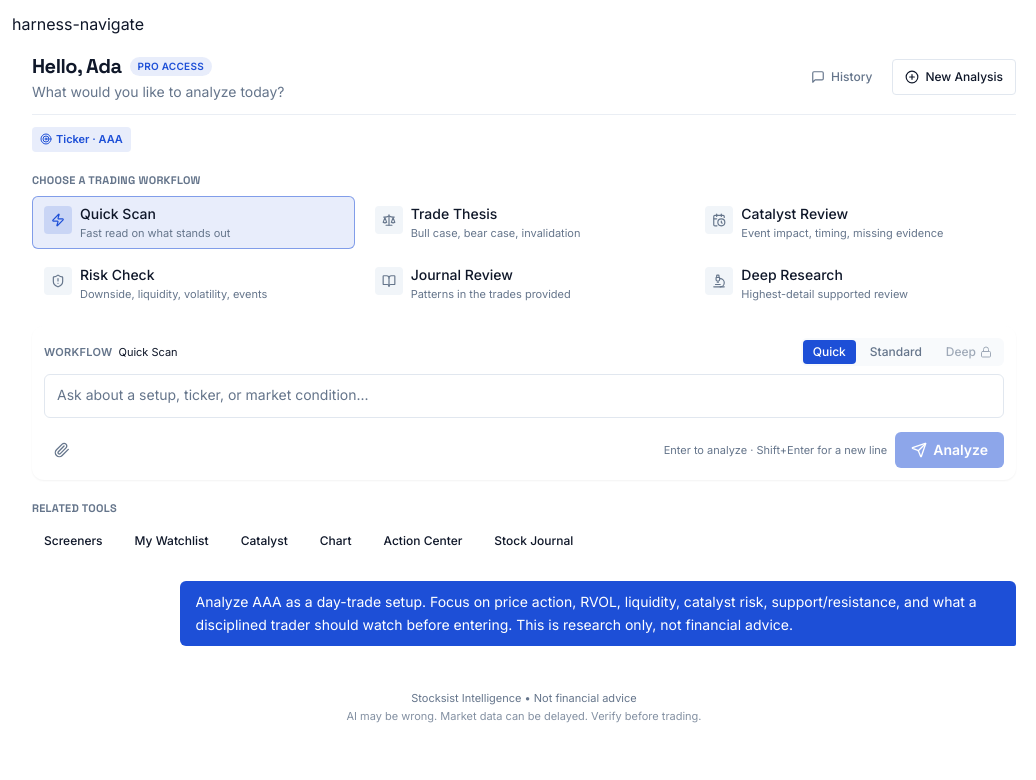
Test: AI Analyst — persistent workflow navigation › New Analysis clears the conversation, the ticker context, and the input
This screenshot has width=1036, height=780.
Check: the text "Ticker · AAA" is shown, box [56, 131, 123, 148]
Click the button "New Analysis".
click(954, 77)  # box [892, 59, 1016, 95]
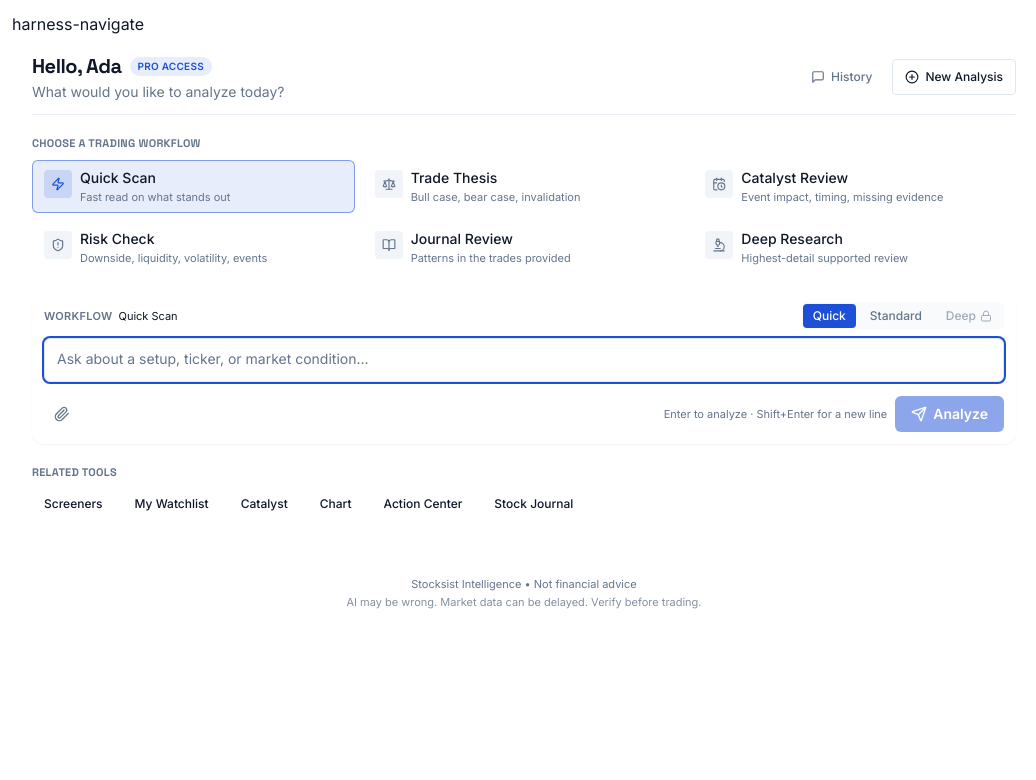
Check: the text box with placeholder "Ask about a setup, ticker, or market condition..." is empty, box [44, 338, 1004, 382]
Check: the text "Ticker · AAA" is gone
Check: the text "Analyze AAA" is gone
